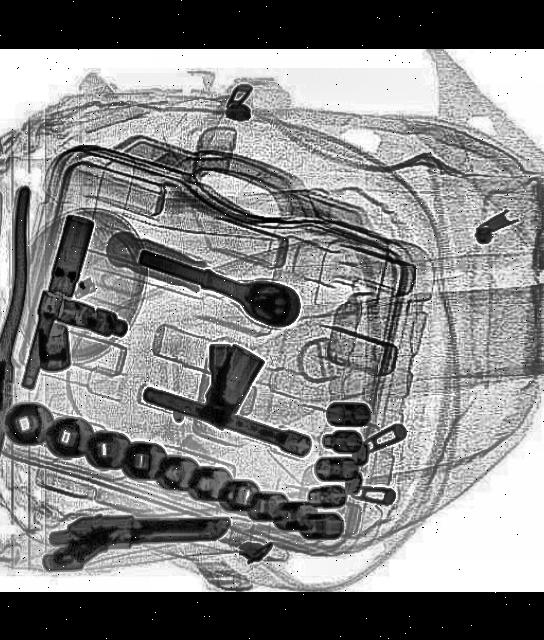Gun: (45, 514, 231, 572)
Pliers: (0, 184, 35, 459)
